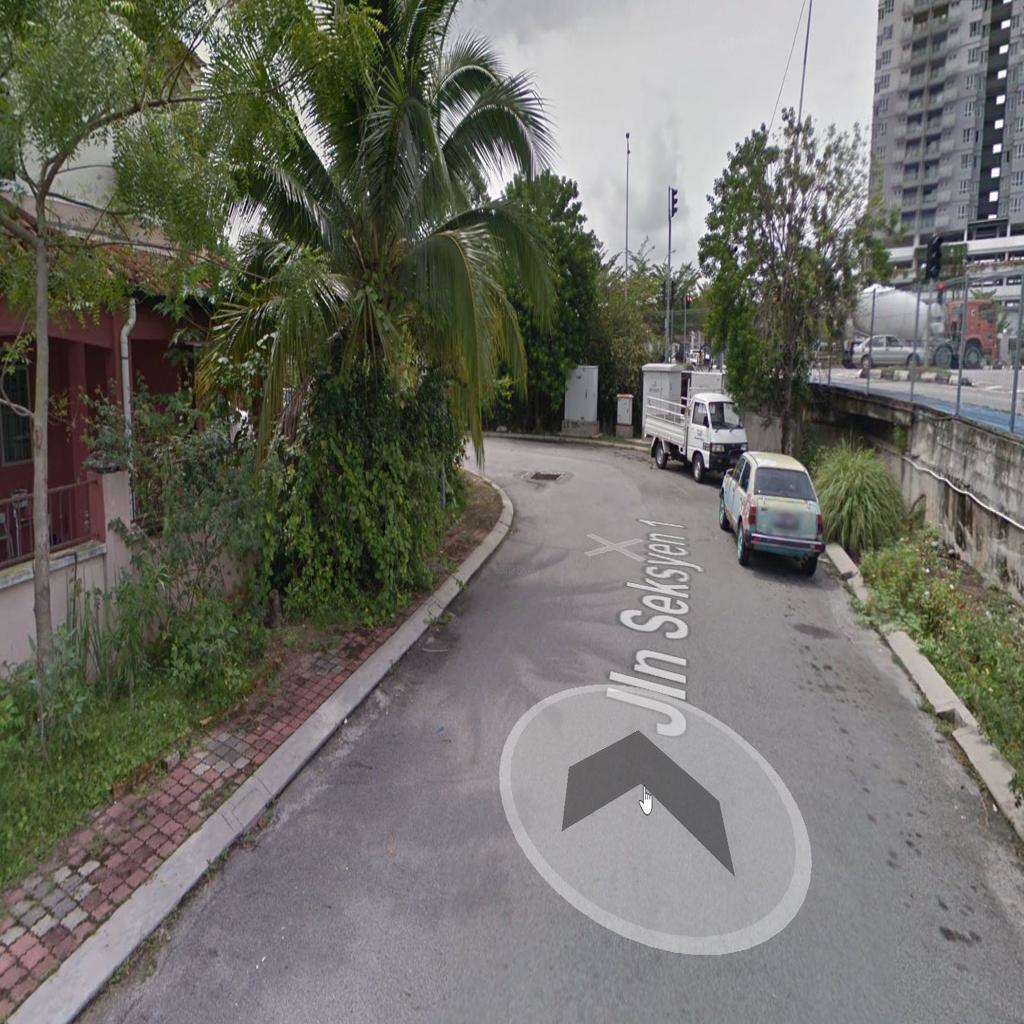Junction: (434, 407, 627, 548)
